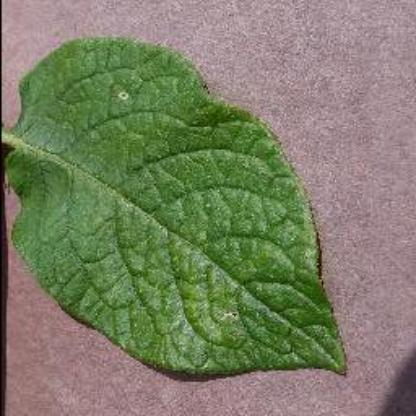Healthy-plant: (0, 8, 348, 396)
